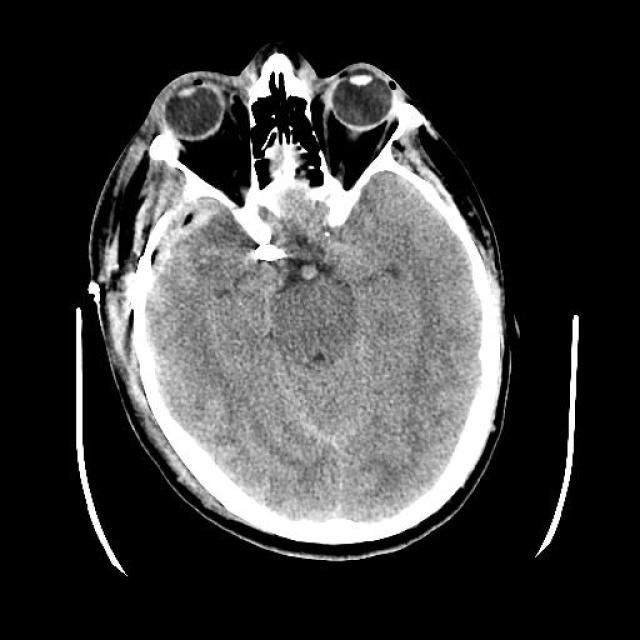Subdural: (131, 186, 225, 285)
